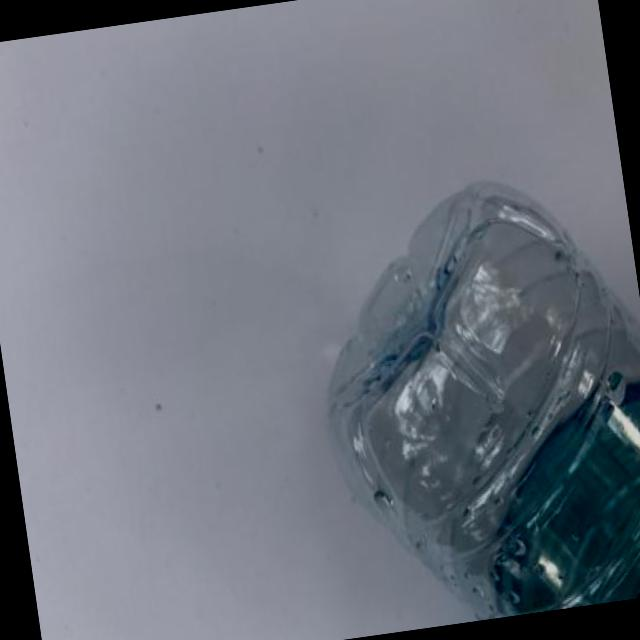Recycle: (295, 164, 640, 638)
